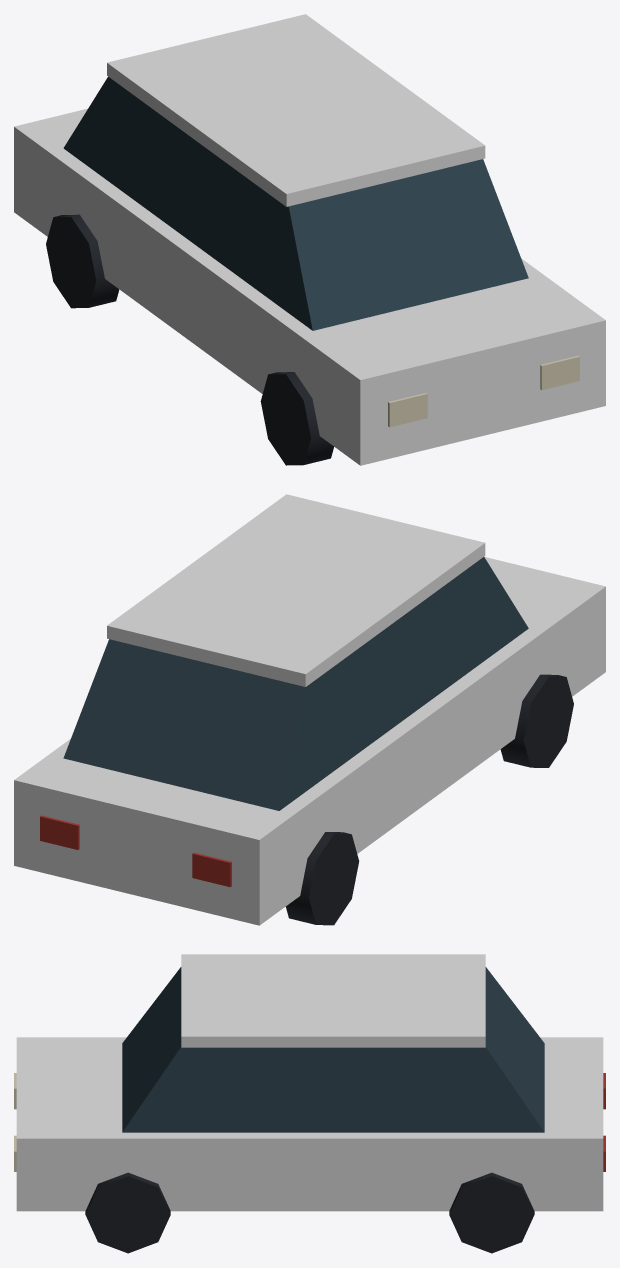
Rendered from veh_car_4.344b5c563801.glb.
3 renders of one model, top to bottom at view 1: azimuth 30°, elevation 25°; view 2: azimuth 150°, elevation 25°; view 3: azimuth 270°, elevation 25°, orthographic. The views are drawn at different scales.
Parts seen in each view (by area): view 1: LOD0; view 2: LOD0; view 3: LOD0.
Part boxes in pixels (x1,y1,x2,y2): LOD0: (14, 14, 605, 465); LOD0: (14, 494, 605, 925); LOD0: (14, 954, 605, 1253).
Size of what is drawn, in the model's own units: 1.93 by 1.69 by 4.44.
